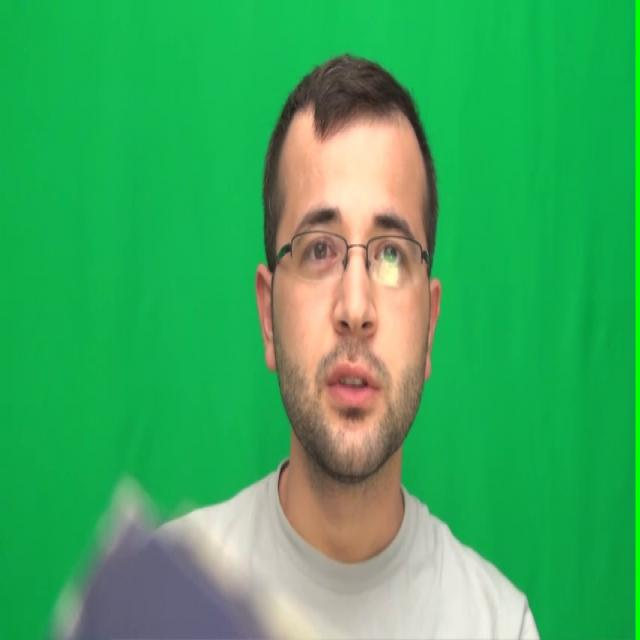Engaged: (281, 113, 429, 472)
